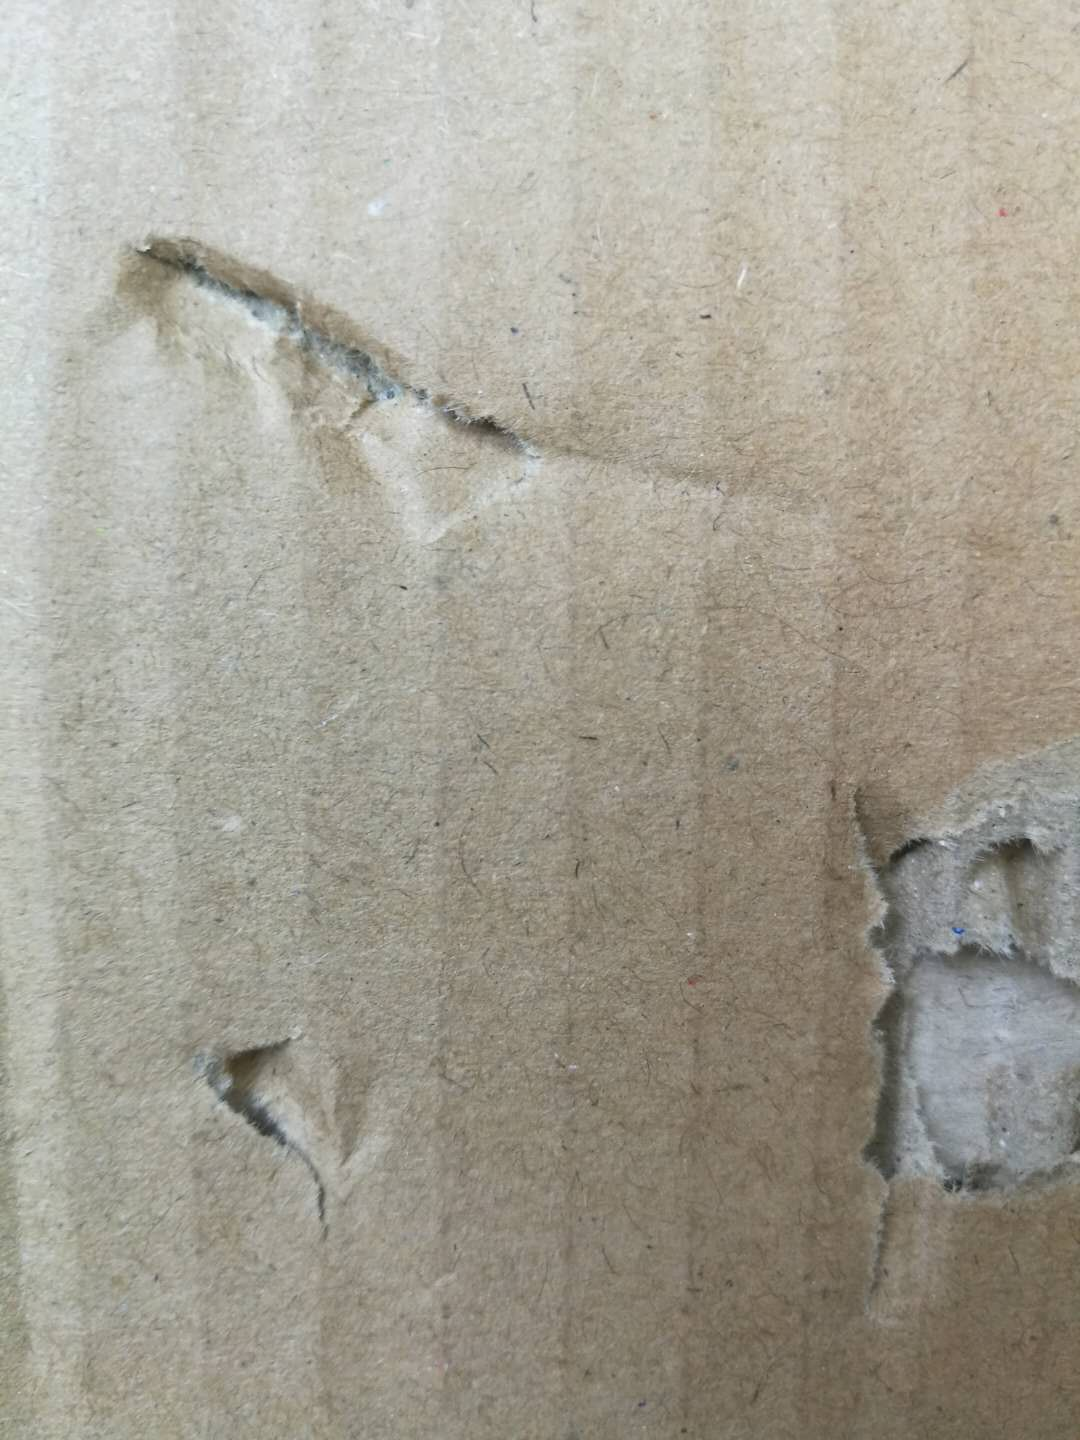defect: (42, 185, 883, 587), (791, 693, 1080, 1348), (151, 979, 410, 1262)
